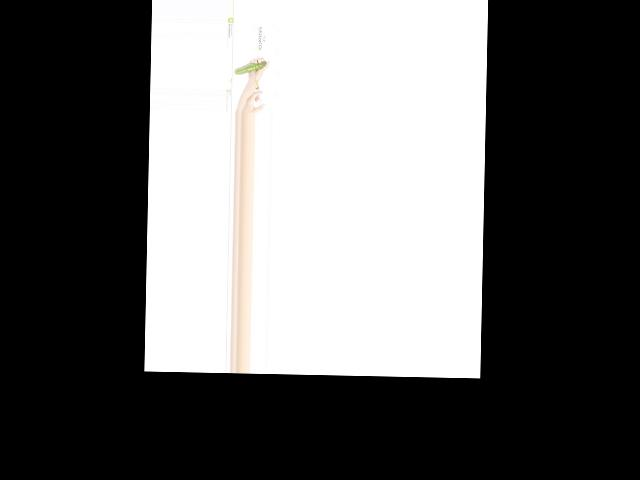cucumber: (233, 60, 266, 75)
